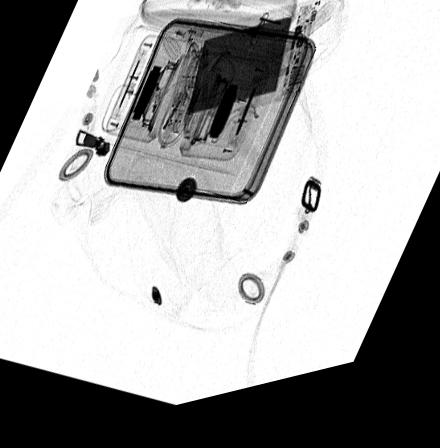Powerbank: (165, 10, 321, 142)
